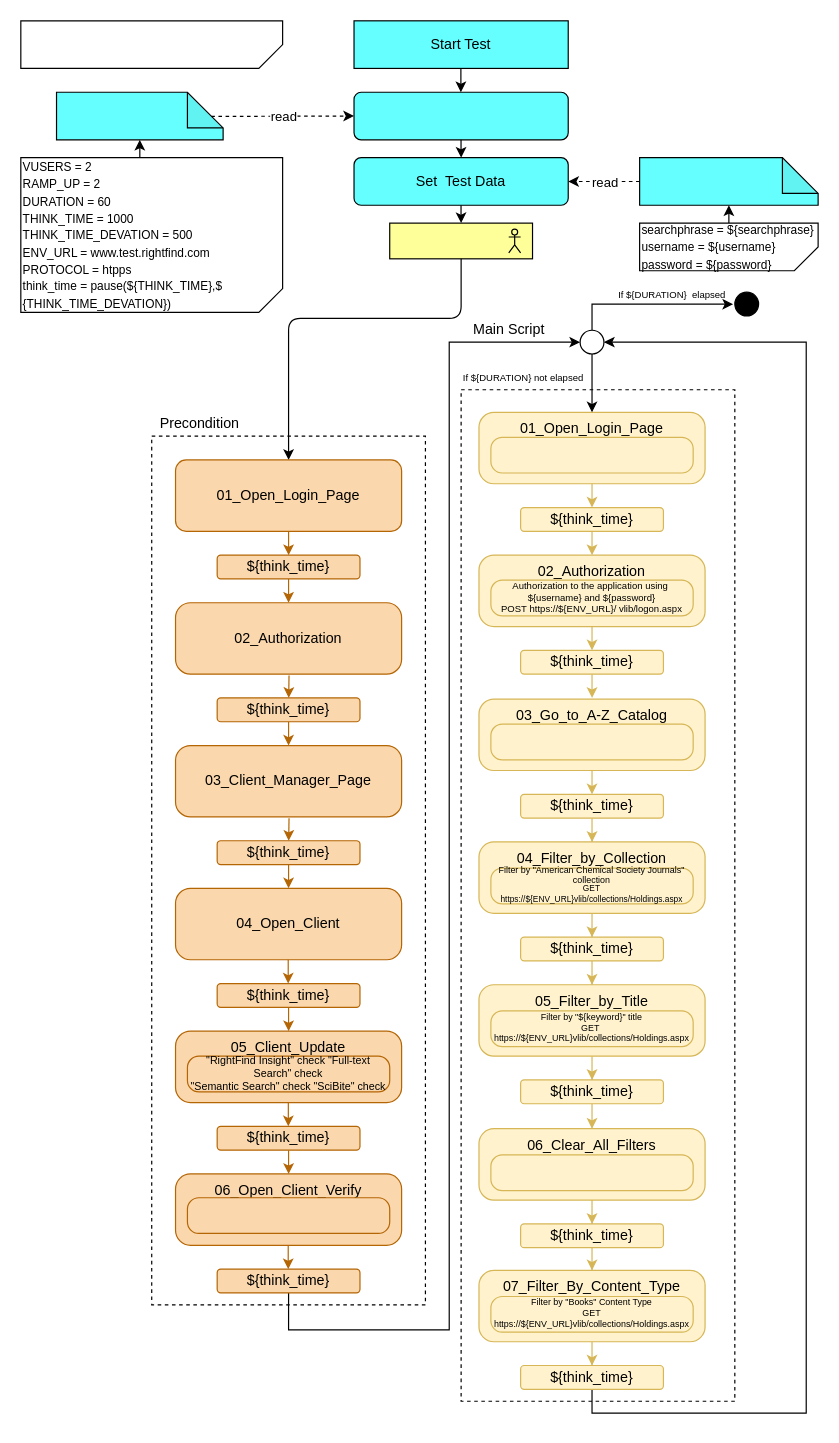
The diagram is 839 pixels wide and 1443 high, and some of its shapes have lost their labels. Here are the shapes that lost their labels. From the top down, the centre of each, then its label:
At point 151,44: "5_4_RFE_UI_A_Z_Catalog".
At point 139,115: "Load Model".
At point 460,115: "Set Load".
At point 728,180: "Test Data".
At point 461,240: "vUser".
At point 591,454: "Open application main page - GET https://${ENV_URL}/".
At point 591,741: "Open A-Z catalog page GET https://${ENV_URL}/ vlib/collections/Holdings.aspx".
At point 591,1172: "Clear all filters GET https://${ENV_URL} vlib/collections/Holdings.aspx".
At point 288,1215: "Verify Precondition setup".
